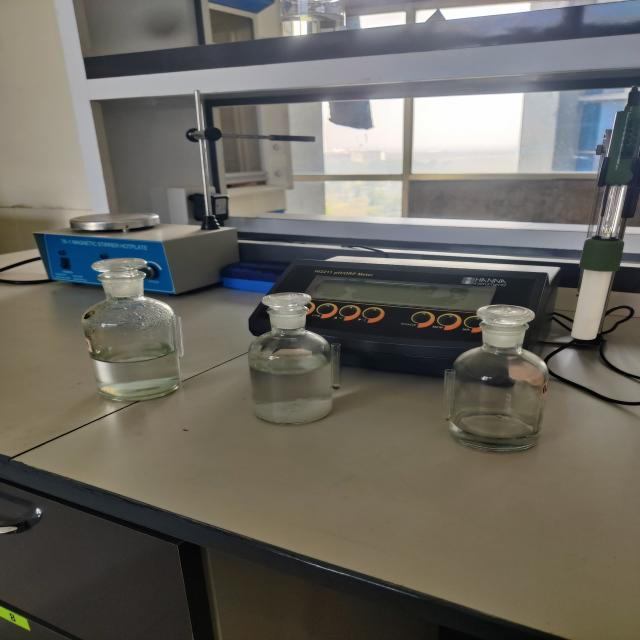Reagent_Bottle: (414, 271, 592, 482), (227, 261, 371, 440), (69, 236, 203, 418)
